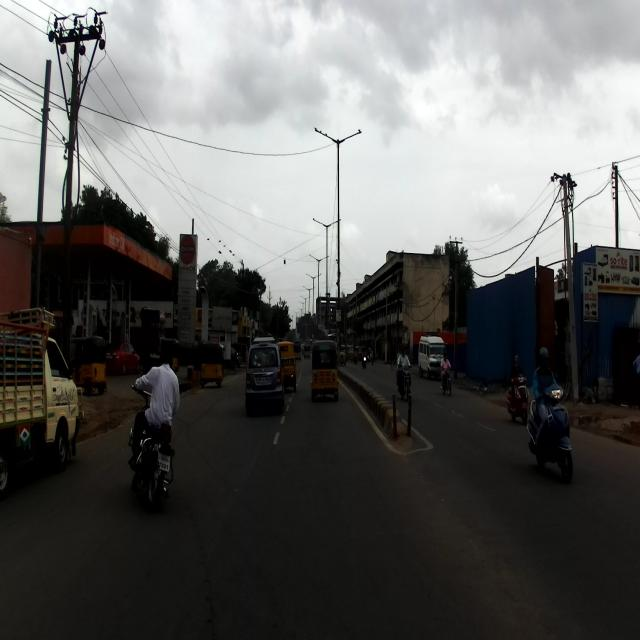Car_Maruti-Suzuki: (244, 337, 285, 414)
motorcycle_RoyalEnfield: (128, 381, 175, 508)
scooter: (526, 383, 574, 483), (504, 372, 530, 424)
